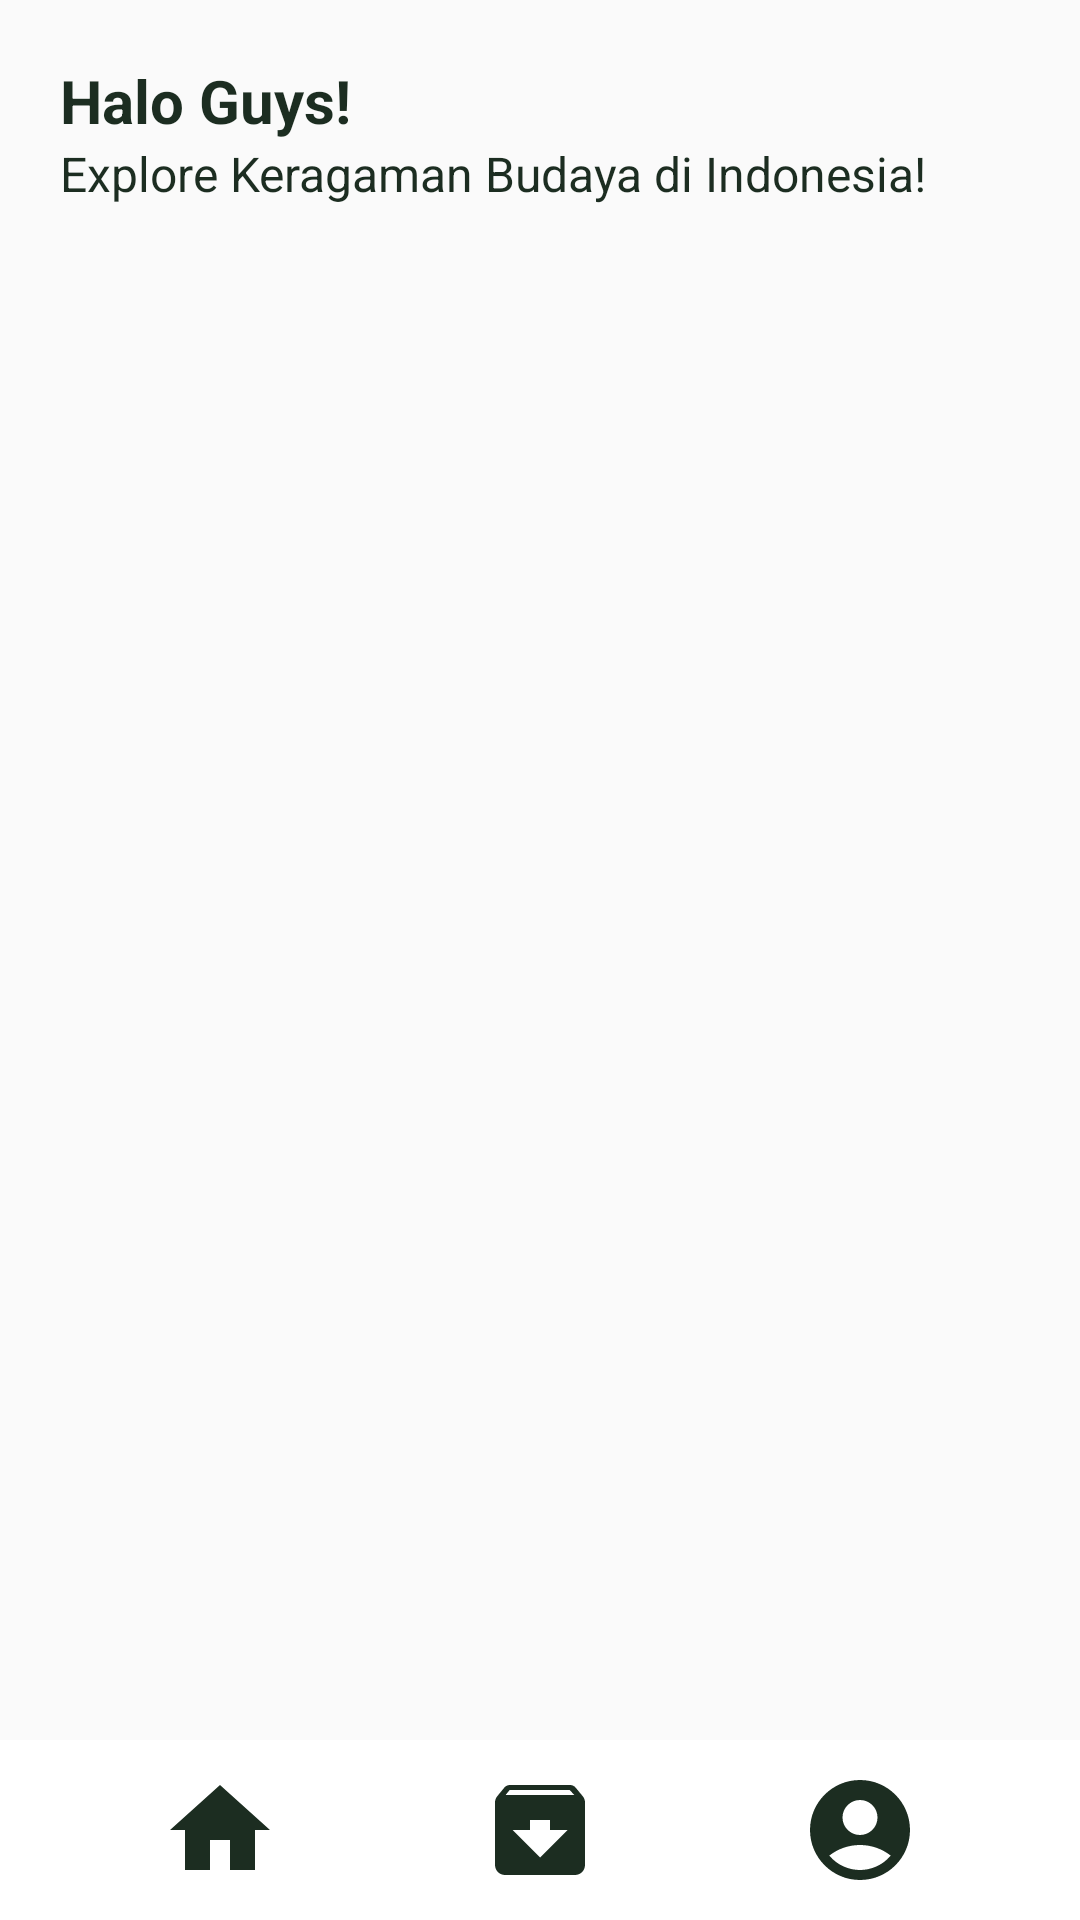

Where to tap for icons on this 1080px x 1920px app screen, as (x,y):
account circle: (860,1830)
archive: (540,1830)
home: (220,1827)
